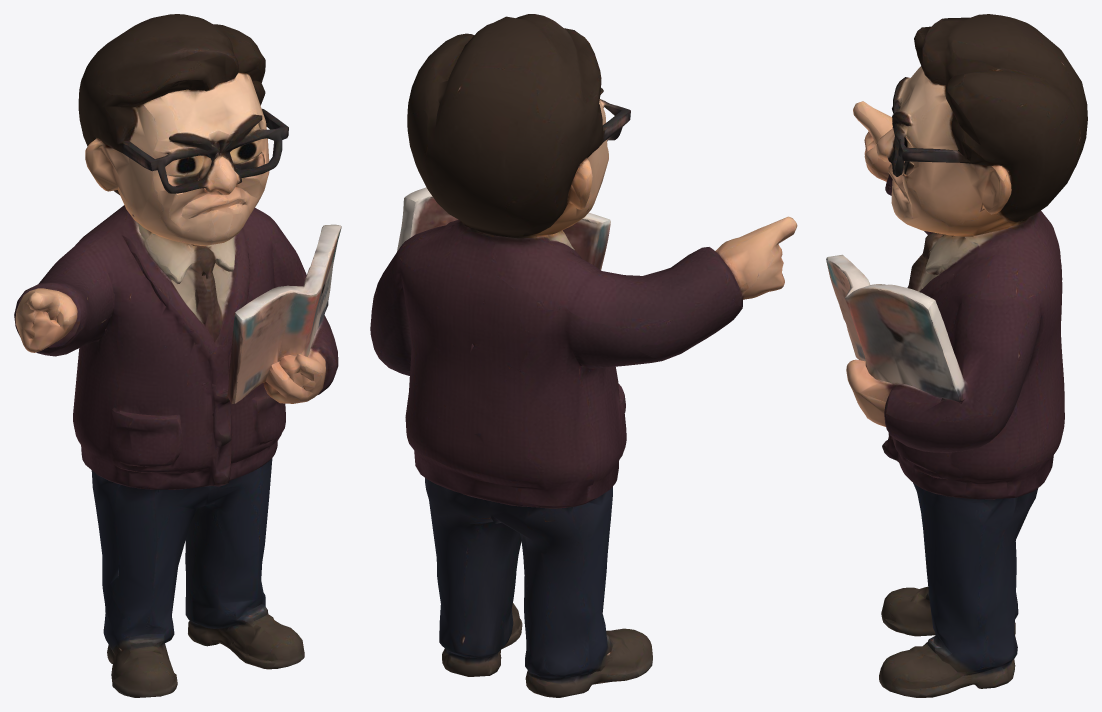
File: hometown_teacher.glb
3 views of the same model, side by side, from view 1: azimuth 30°, elevation 25°; view 2: azimuth 150°, elevation 25°; view 3: azimuth 270°, elevation 25° (orthographic). The views are drawn at different scales.
Visible parts, largest first — view 1: world; view 2: world; view 3: world.
Boxes of the visible parts, <box> form: world: <box>14,14,341,697</box>; world: <box>370,14,797,697</box>; world: <box>826,14,1087,697</box>.
Size of the model in its own units: 0.0879 by 0.1498 by 0.0564.
Materials: 1 (1 with a texture image).
